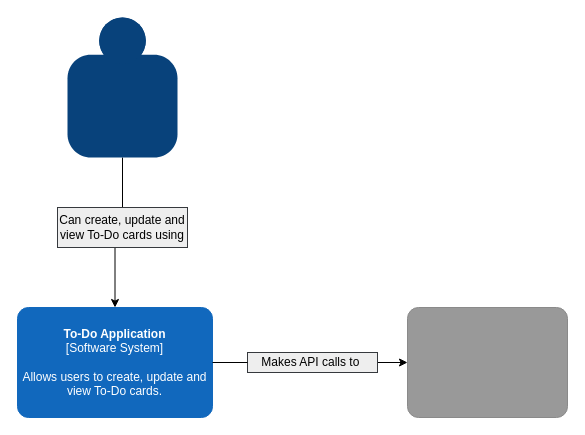
The diagram is 585 pixels wide and 435 high, and some of its shapes have lost their labels. The box of each missing label's shape, as (x1, y1, x2, y2) in pixels:
To-Do App User [Person] User of the To-Do application: (67, 17, 177, 157)
Trello [Software System] External system used as data store for To-Do cards: (406, 306, 568, 418)
